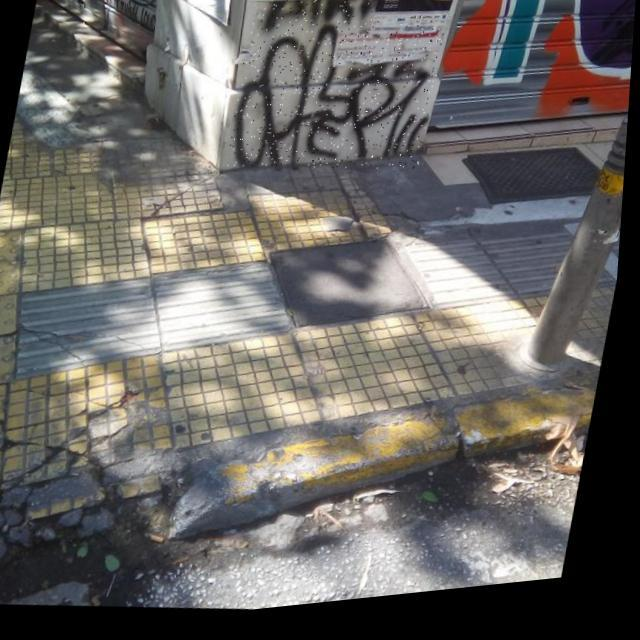-: (225, 8, 448, 195), (262, 0, 381, 38)
